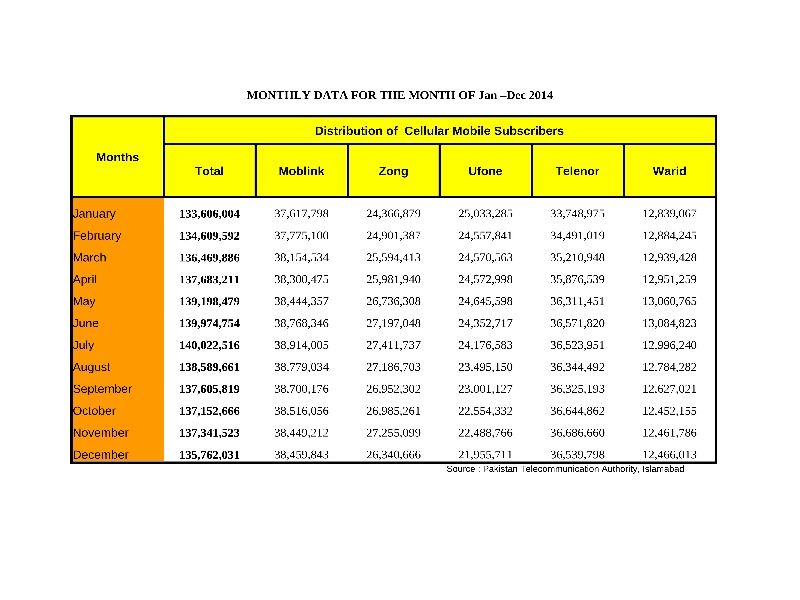borderless: (70, 113, 719, 465)
cell: (312, 122, 567, 137), (546, 290, 610, 310), (547, 445, 610, 465), (178, 247, 242, 266), (546, 401, 612, 419), (637, 314, 703, 332), (545, 203, 607, 222), (72, 380, 137, 398), (640, 379, 698, 399), (363, 269, 424, 288), (456, 379, 517, 398), (640, 423, 704, 441), (364, 291, 424, 310), (362, 400, 422, 419), (177, 315, 244, 332), (178, 379, 241, 397), (364, 314, 423, 333), (455, 204, 517, 222), (455, 335, 517, 353), (545, 226, 607, 244), (545, 248, 607, 266), (639, 227, 701, 245), (176, 270, 241, 287), (639, 403, 704, 420), (640, 203, 698, 222), (177, 227, 241, 244), (362, 227, 425, 244), (361, 358, 424, 375), (546, 357, 609, 374), (638, 359, 701, 376), (272, 248, 331, 266), (271, 445, 330, 463), (641, 248, 700, 266), (362, 423, 424, 440), (454, 226, 516, 243), (455, 402, 517, 419), (272, 335, 330, 353), (178, 402, 243, 418), (270, 402, 331, 419), (456, 248, 517, 265), (546, 270, 607, 287), (362, 206, 426, 222), (271, 205, 331, 222), (271, 227, 331, 244), (363, 249, 423, 266), (363, 337, 423, 354), (363, 381, 423, 398), (547, 424, 607, 441), (641, 269, 701, 286), (178, 337, 241, 353), (271, 359, 334, 375), (456, 425, 519, 441), (548, 335, 607, 352), (271, 272, 333, 288), (74, 424, 132, 441), (271, 315, 332, 331), (547, 315, 608, 331), (179, 293, 244, 308), (176, 447, 241, 462), (365, 445, 425, 461), (640, 292, 700, 308), (640, 338, 704, 353), (178, 205, 241, 220), (457, 314, 516, 330), (456, 358, 515, 374), (554, 160, 601, 180), (175, 426, 241, 440), (272, 425, 333, 440), (455, 292, 515, 307), (177, 360, 241, 374), (458, 270, 514, 286), (549, 382, 607, 397), (271, 382, 333, 396), (275, 162, 326, 179), (640, 447, 706, 460), (74, 447, 131, 462), (456, 447, 517, 461), (93, 148, 143, 165), (73, 228, 126, 244), (72, 401, 119, 419), (271, 294, 331, 308), (70, 206, 121, 222), (464, 162, 507, 180), (647, 163, 691, 179), (374, 162, 413, 180), (191, 161, 229, 178), (70, 359, 113, 374), (72, 250, 110, 265), (72, 293, 101, 311), (74, 271, 103, 288), (72, 336, 98, 354), (72, 315, 102, 330)
